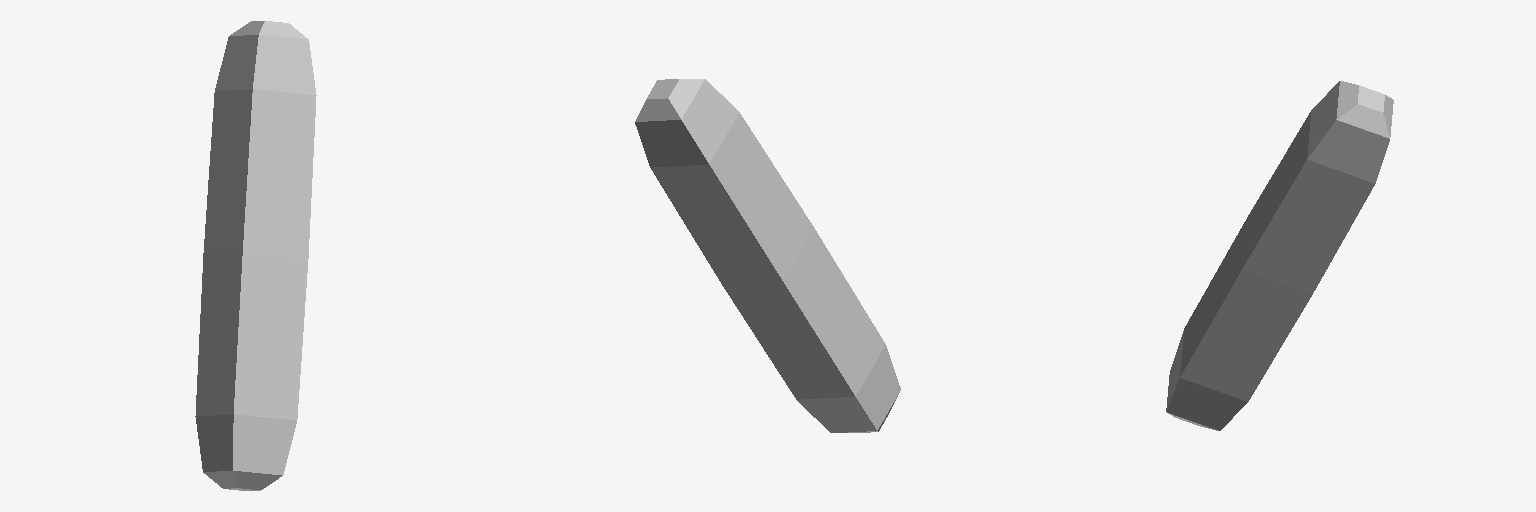
Rendered from left_foot_cp_2.obj.
The picture shows the model from 3 angles: view 1: azimuth 30°, elevation 25°; view 2: azimuth 150°, elevation 25°; view 3: azimuth 270°, elevation 25°; orthographic projection.
Visible parts, largest first — view 1: ../rami/model/left_foot_cp_2; view 2: ../rami/model/left_foot_cp_2; view 3: ../rami/model/left_foot_cp_2.
Part boxes in pixels (x1,y1,x2,y2): ../rami/model/left_foot_cp_2: (195, 21, 316, 490); ../rami/model/left_foot_cp_2: (635, 79, 900, 432); ../rami/model/left_foot_cp_2: (1166, 81, 1393, 430).
Bounding box in the file's own units: 0.0002 × 0.0005 × 0.0002.